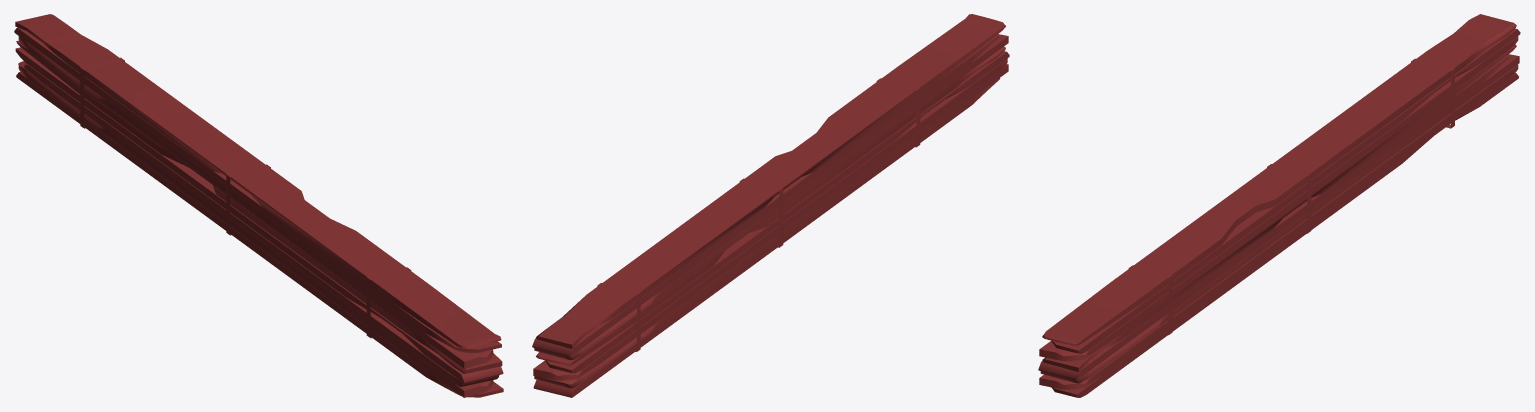
File: SM_WoodPlankPack01.fbx
3 renders of one model, left to right at view 1: azimuth 30°, elevation 25°; view 2: azimuth 150°, elevation 25°; view 3: azimuth 330°, elevation 25°, orthographic. The views are drawn at different scales.
Parts seen in each view (by area): view 1: WoodPlankPack01; view 2: WoodPlankPack01; view 3: WoodPlankPack01.
Boxes of the visible parts, <box> form: WoodPlankPack01: <box>14,14,503,397</box>; WoodPlankPack01: <box>532,14,1009,397</box>; WoodPlankPack01: <box>1038,14,1520,397</box>.
Bounding box in the file's own units: 15.69 × 21.47 × 301.
